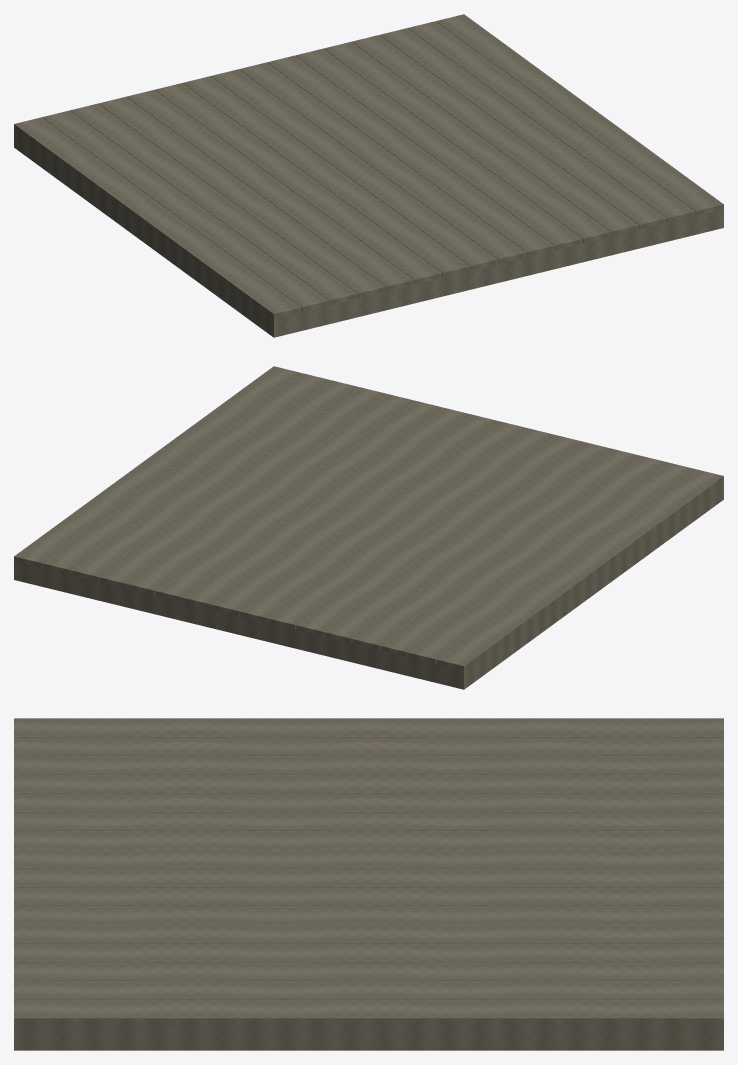
File: MRP_Floor_2x2m.fbx
3 views of the same model, one above another, from view 1: azimuth 30°, elevation 25°; view 2: azimuth 150°, elevation 25°; view 3: azimuth 270°, elevation 25° (orthographic). The views are drawn at different scales.
Parts seen in each view (by area): view 1: Body; view 2: Body; view 3: Body.
Boxes of the visible parts, left/top/right/bottom form: Body: left=14, top=14, right=723, bottom=337; Body: left=14, top=366, right=723, bottom=689; Body: left=14, top=718, right=723, bottom=1050.
Size of the model in its own units: 2 by 0.1 by 2.
